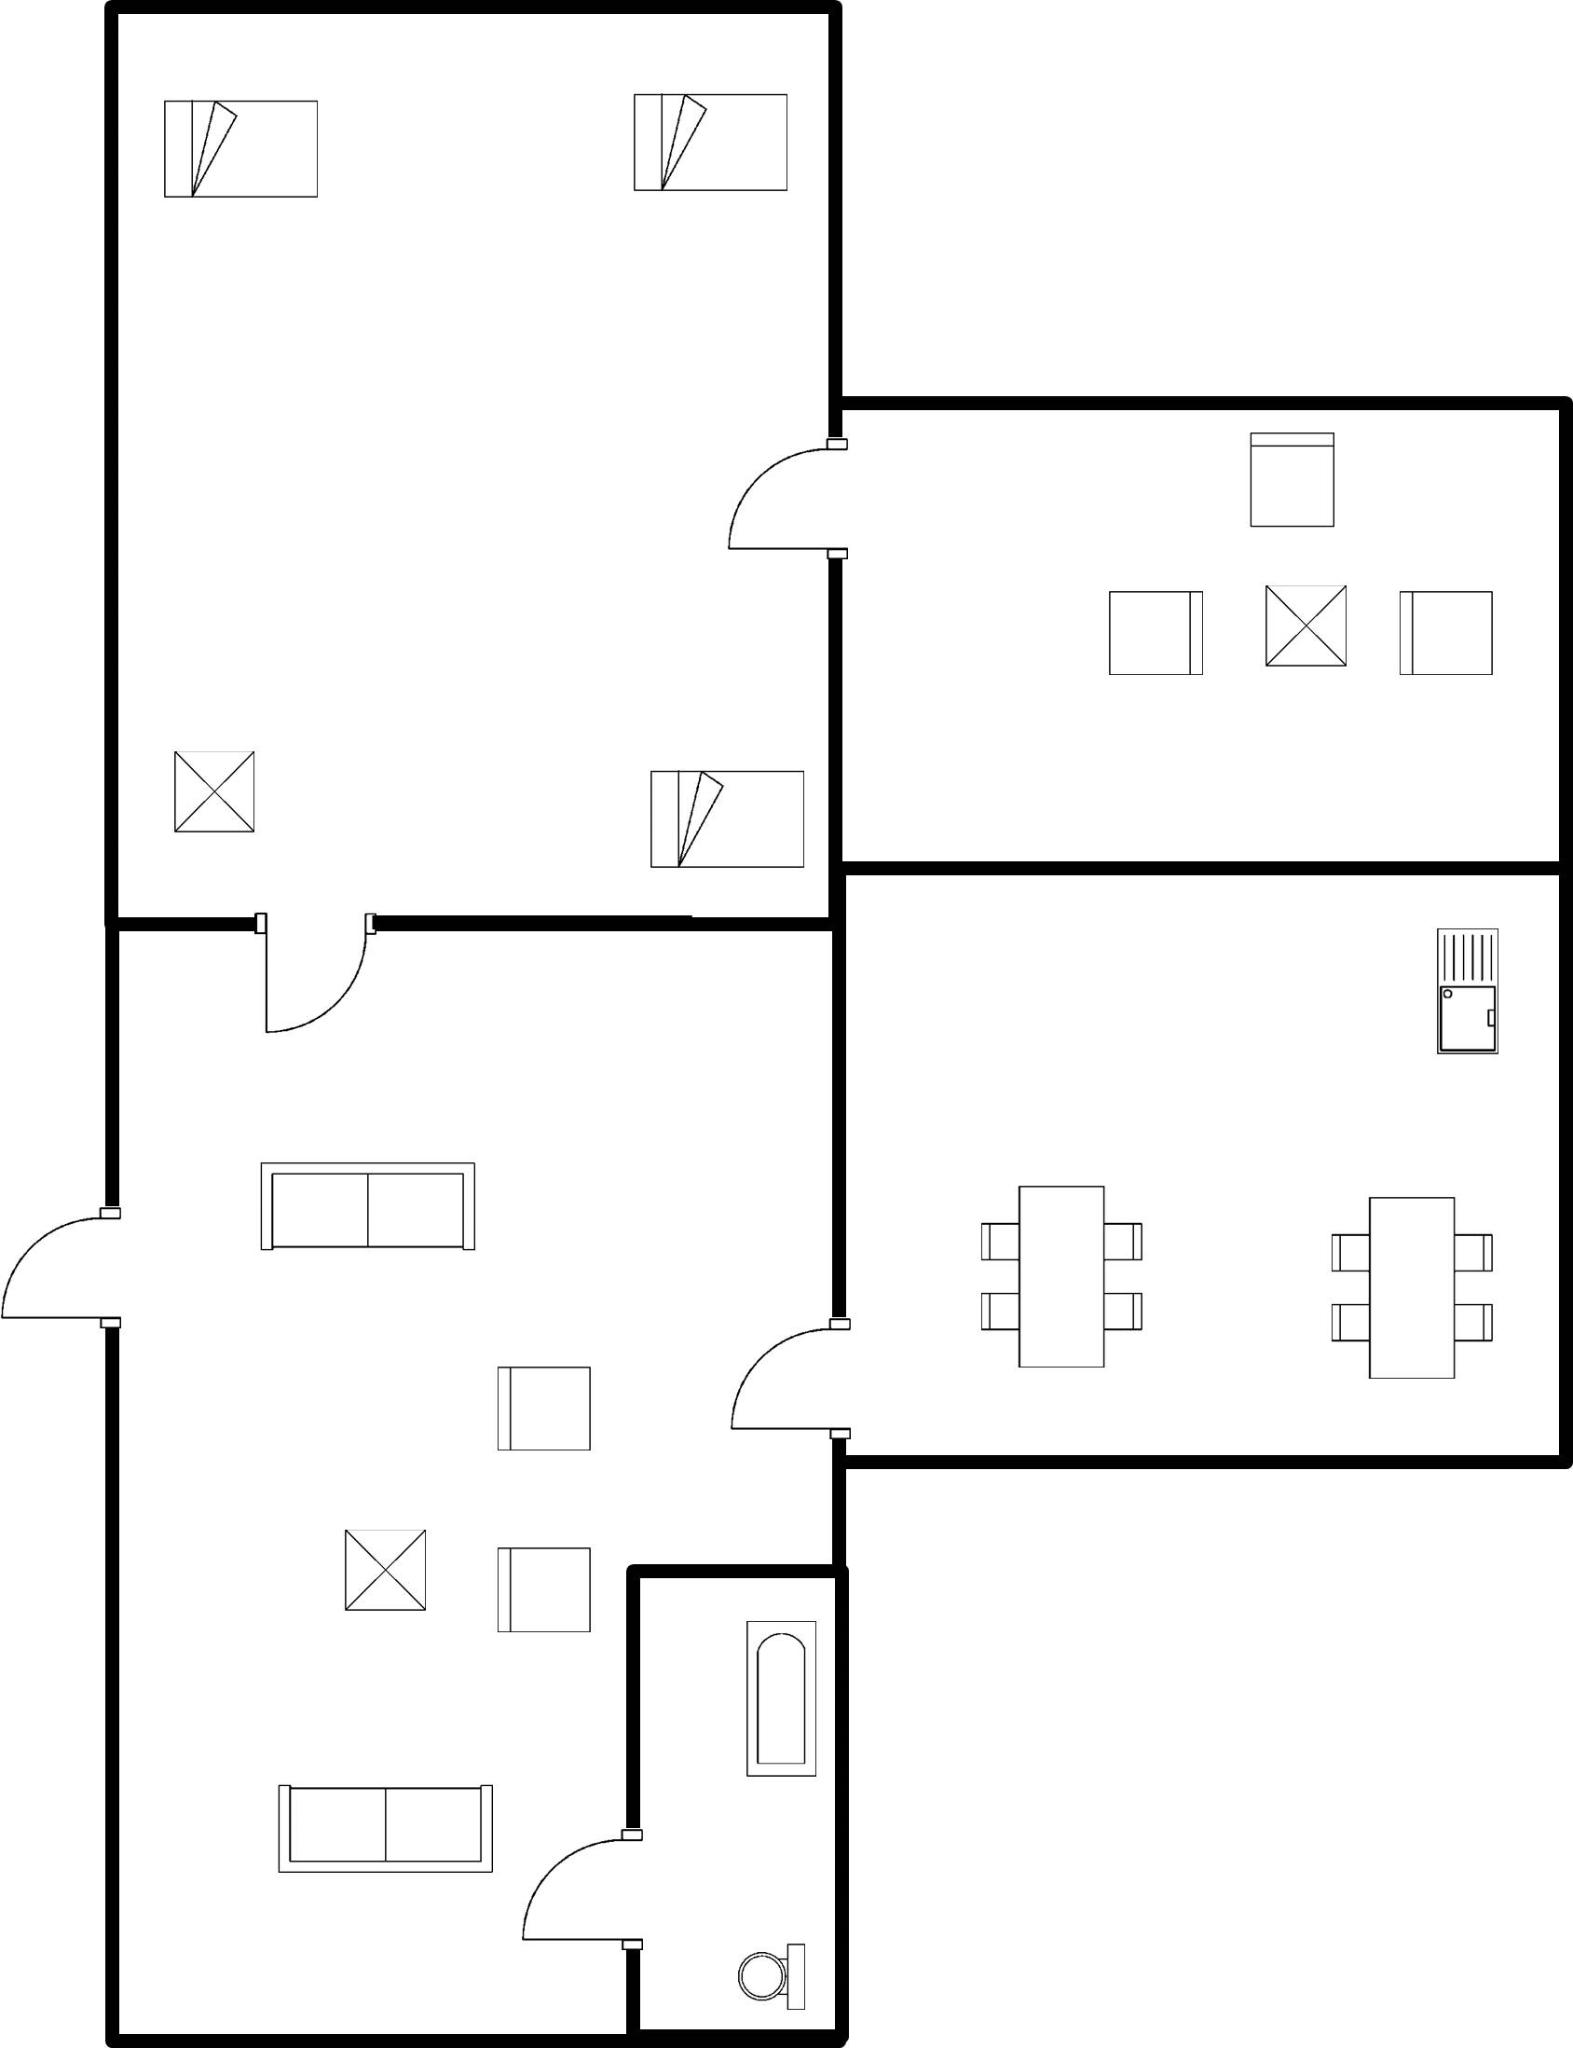bed: (615, 76, 801, 205), (149, 86, 334, 211), (634, 760, 813, 887)
dining_table: (958, 1161, 1158, 1381), (1309, 1184, 1509, 1392)
sink: (1424, 913, 1510, 1065)
sofa: (261, 1772, 509, 1889), (248, 1143, 482, 1263)
toilet: (724, 1931, 829, 2018)
tub: (735, 1605, 831, 1790)
